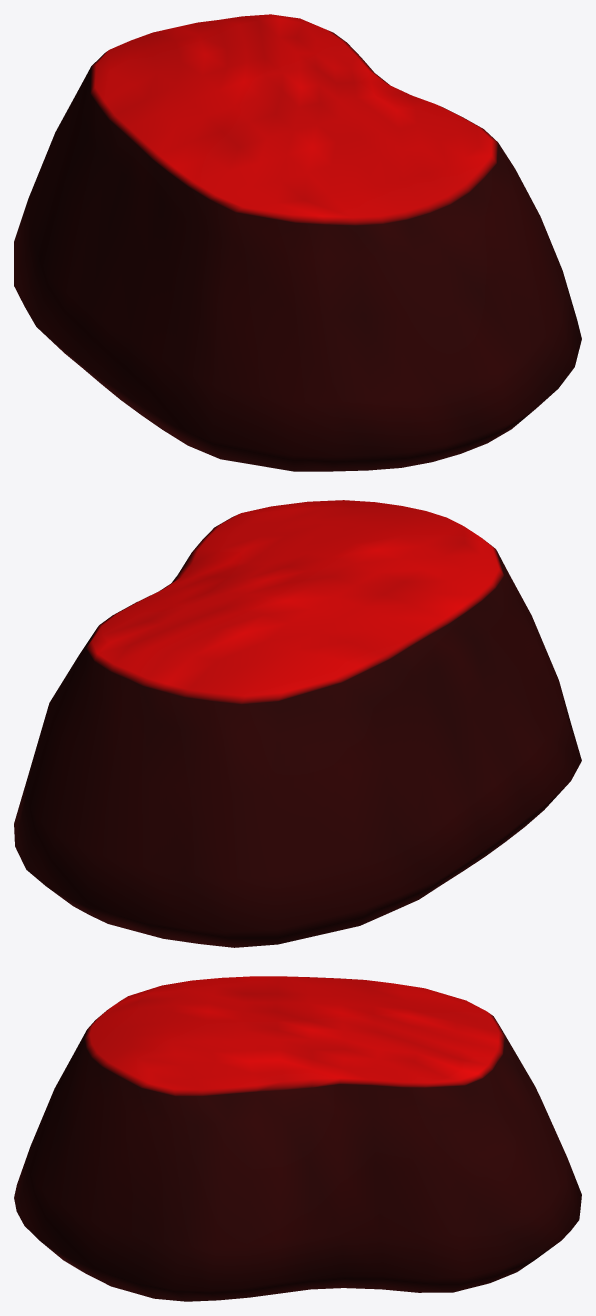
Rendered from geology-landforms-icehilllarge_v2.fbx.
The picture shows the model from 3 angles, top to bottom: view 1: azimuth 30°, elevation 25°; view 2: azimuth 150°, elevation 25°; view 3: azimuth 270°, elevation 25°; orthographic projection. The views are drawn at different scales.
Parts seen in each view (by area): view 1: IceHillLarge_v2; view 2: IceHillLarge_v2; view 3: IceHillLarge_v2.
Part boxes in pixels (box(x1,y1,x2,y2)): IceHillLarge_v2: box(14, 14, 581, 471); IceHillLarge_v2: box(14, 500, 581, 947); IceHillLarge_v2: box(14, 976, 581, 1301).
Bounding box in the file's own units: 47.19 × 26.74 × 66.5.
